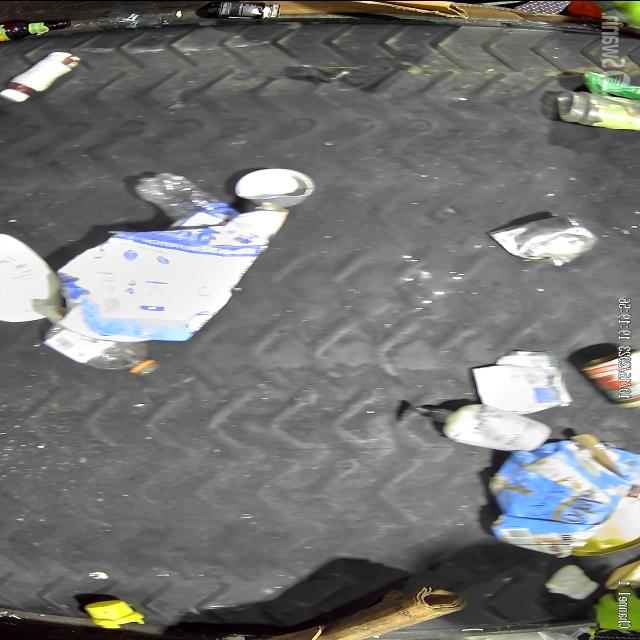can: (487, 212, 601, 268), (469, 364, 574, 416), (230, 164, 314, 207), (492, 346, 560, 366)
plastic_bottle: (41, 317, 163, 375), (130, 169, 240, 223)
